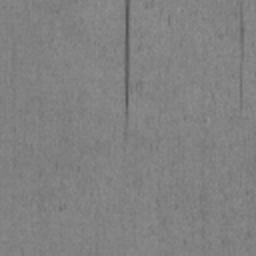Scratches: (124, 0, 131, 120), (239, 11, 245, 49)
